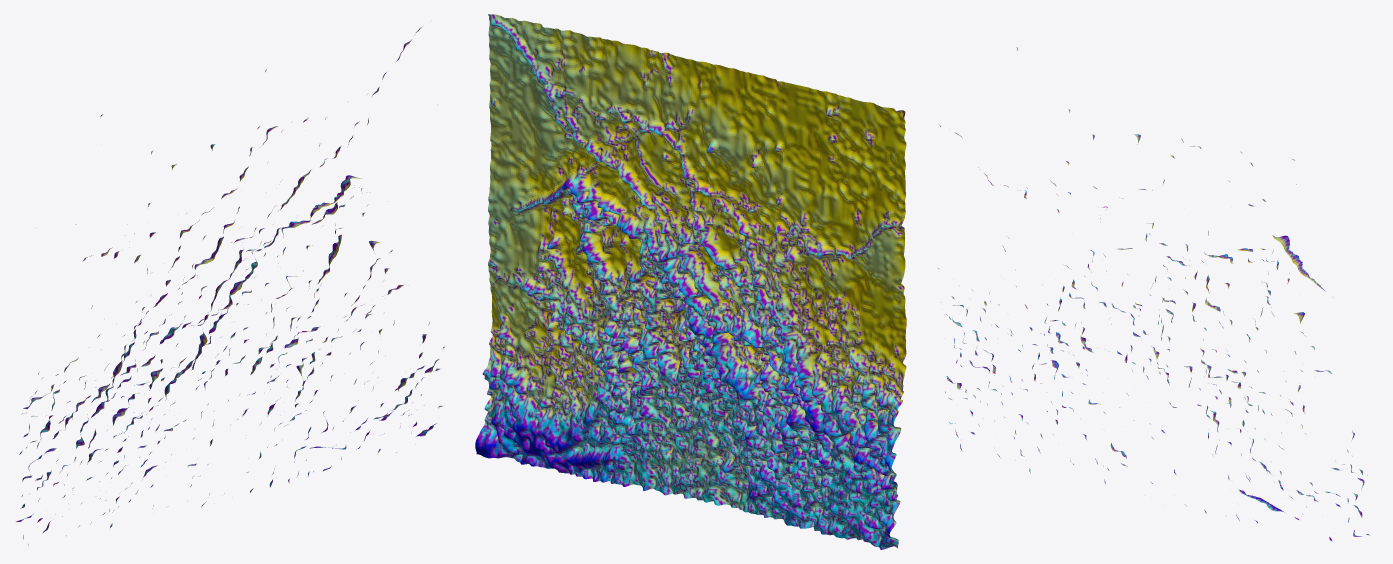
The picture shows the model from 3 angles, left to right: view 1: azimuth 30°, elevation 25°; view 2: azimuth 150°, elevation 25°; view 3: azimuth 330°, elevation 25°; orthographic projection. The views are drawn at different scales.
Parts seen in each view (by area): view 1: world; view 2: world; view 3: world.
Boxes of the visible parts, box(x1,y1,x2,y2) form: world: box(16, 27, 444, 545); world: box(475, 14, 906, 549); world: box(938, 47, 1369, 541).
Bounding box in the file's own units: 299 × 299 × 24.5.
